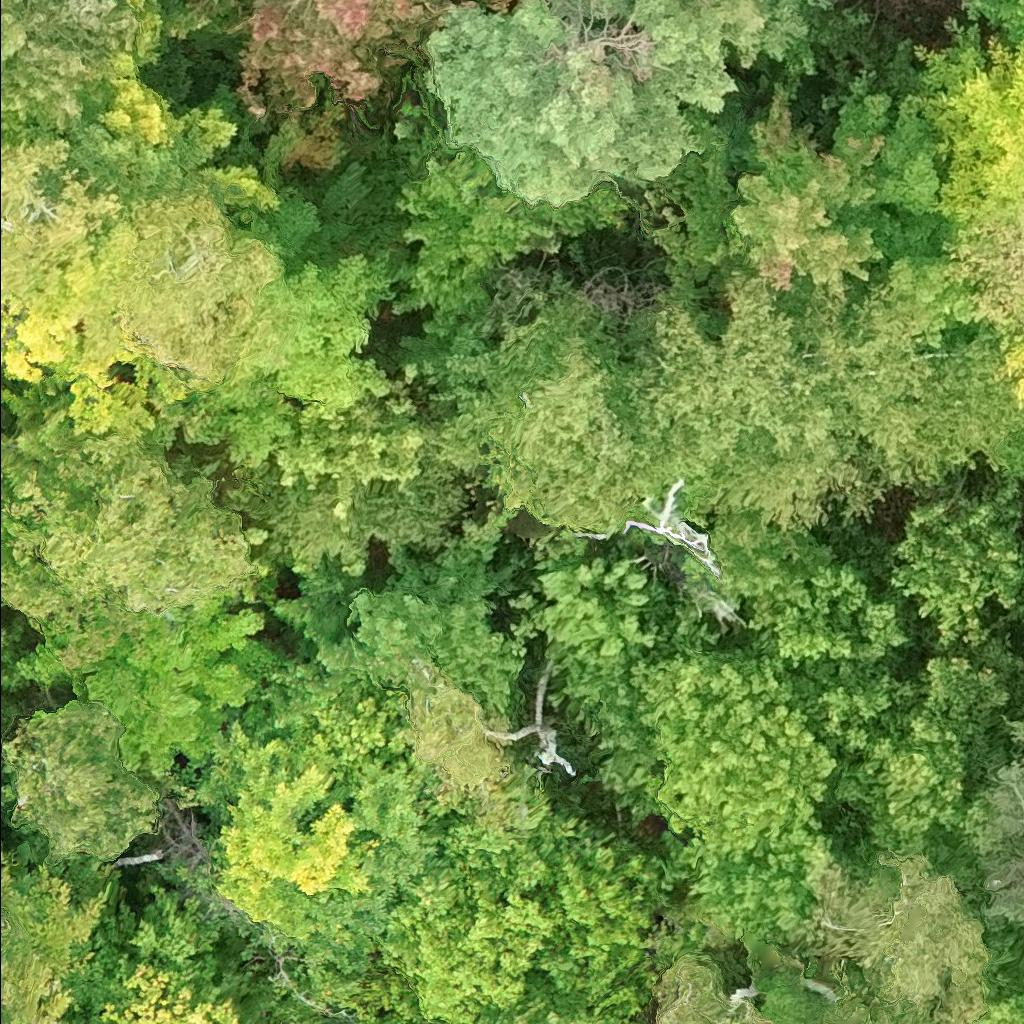crown: (424, 0, 740, 206), (0, 427, 260, 676), (787, 637, 1012, 875), (625, 646, 838, 887), (620, 266, 844, 480), (225, 164, 411, 421), (793, 283, 1023, 487), (507, 553, 678, 814), (479, 296, 665, 530), (848, 43, 984, 362), (66, 591, 288, 780), (376, 820, 563, 1023), (107, 182, 298, 377), (727, 82, 895, 300), (189, 0, 477, 122), (0, 220, 154, 439), (800, 851, 990, 1023), (391, 146, 561, 338), (519, 808, 670, 1020), (209, 760, 382, 938), (0, 695, 161, 870), (683, 817, 874, 946), (884, 479, 1023, 655), (65, 100, 278, 213), (907, 19, 1023, 226), (0, 133, 130, 297), (699, 429, 890, 536), (0, 0, 137, 144), (84, 0, 211, 150), (749, 561, 915, 672), (405, 653, 517, 811), (127, 884, 225, 1004), (704, 0, 836, 74), (940, 215, 1023, 328), (474, 969, 639, 1023), (652, 955, 781, 1023), (107, 960, 244, 1023), (0, 905, 50, 1023), (338, 972, 447, 1023), (813, 991, 939, 1023), (983, 324, 1023, 406), (960, 0, 1023, 48), (0, 382, 4, 405), (481, 8, 484, 11), (477, 7, 481, 8)
